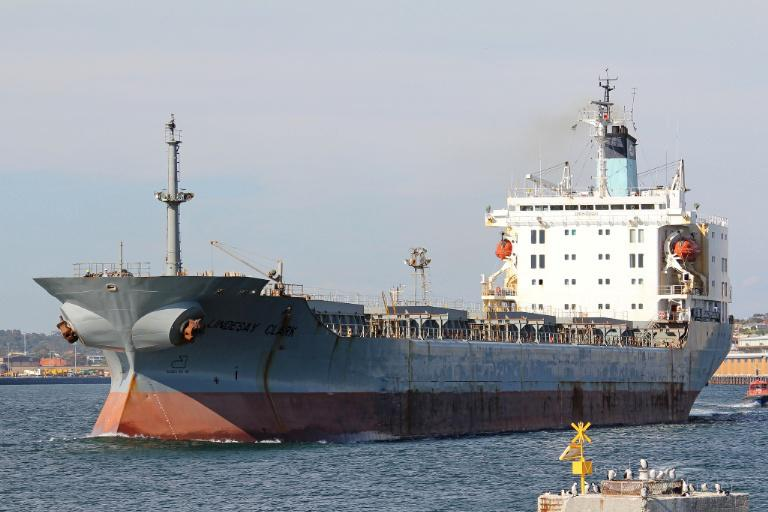OCR: (195, 308, 299, 350)
